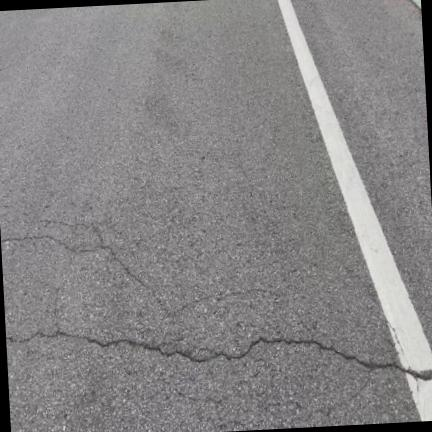Road: (0, 0, 419, 431)
